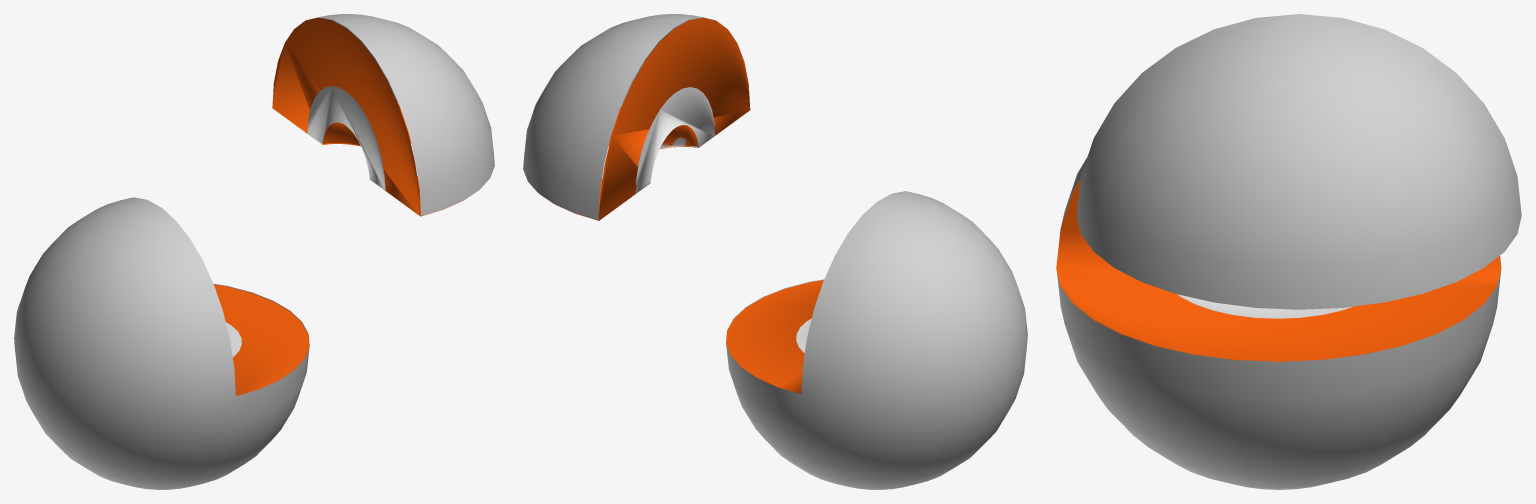
File: Capas Final.fbx
3 views of the same model, side by side, from view 1: azimuth 30°, elevation 25°; view 2: azimuth 150°, elevation 25°; view 3: azimuth 270°, elevation 25° (orthographic). The views are drawn at different scales.
Parts seen in each view (by area): view 1: Tierra, Tierra.001, Manto, Manto.001, Nucleo Externo; view 2: Tierra, Tierra.001, Manto, Manto.001, Nucleo Externo; view 3: Tierra.001, Tierra, Manto.001, Nucleo Externo.001.
Boxes of the visible parts, x1,y1,x2,y2 form: Tierra: (14,197,309,489); Tierra.001: (306,14,494,215); Manto: (272,17,463,216); Manto.001: (214,284,309,396); Nucleo Externo: (307,86,417,190); Tierra: (726,191,1027,489); Tierra.001: (523,14,715,220); Manto: (542,17,750,220); Manto.001: (726,280,823,393); Nucleo Externo: (602,87,715,193); Tierra.001: (1076,14,1521,309); Tierra: (1056,158,1501,489); Manto.001: (1056,179,1501,362); Nucleo Externo.001: (1177,294,1352,318).
Bounding box in the file's own units: 1117 × 945 × 669.
